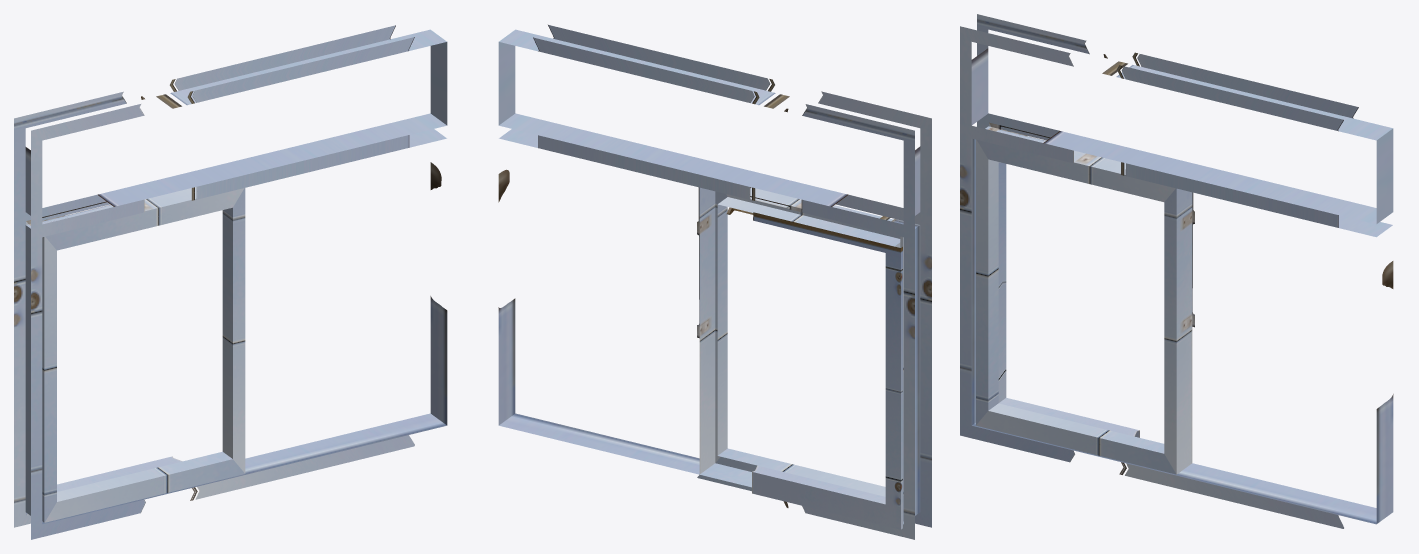
The model's file is ventanaPeque.fbx.
The picture shows the model from 3 angles, left to right: view 1: azimuth 30°, elevation 25°; view 2: azimuth 150°, elevation 25°; view 3: azimuth 330°, elevation 25°; orthographic projection.
Parts seen in each view (by area): view 1: pasted__ventanaExterior43, pasted__ventanaAulaMarco; view 2: pasted__ventanaExterior43, pasted__ventanaAulaMarco; view 3: pasted__ventanaExterior43, pasted__ventanaAulaMarco.
Part boxes in pixels (<box>): pasted__ventanaExterior43: <box>14,25,447,539</box>; pasted__ventanaAulaMarco: <box>26,187,245,522</box>; pasted__ventanaExterior43: <box>498,25,931,539</box>; pasted__ventanaAulaMarco: <box>697,187,903,529</box>; pasted__ventanaExterior43: <box>960,14,1393,528</box>; pasted__ventanaAulaMarco: <box>976,122,1194,474</box>.
Size of the model in its own units: 157 by 144 by 12.1.
Materials: 1 (1 with a texture image).
